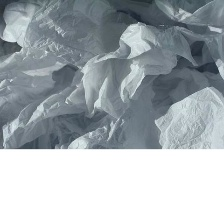tissue: (0, 0, 224, 149), (149, 82, 223, 148)
